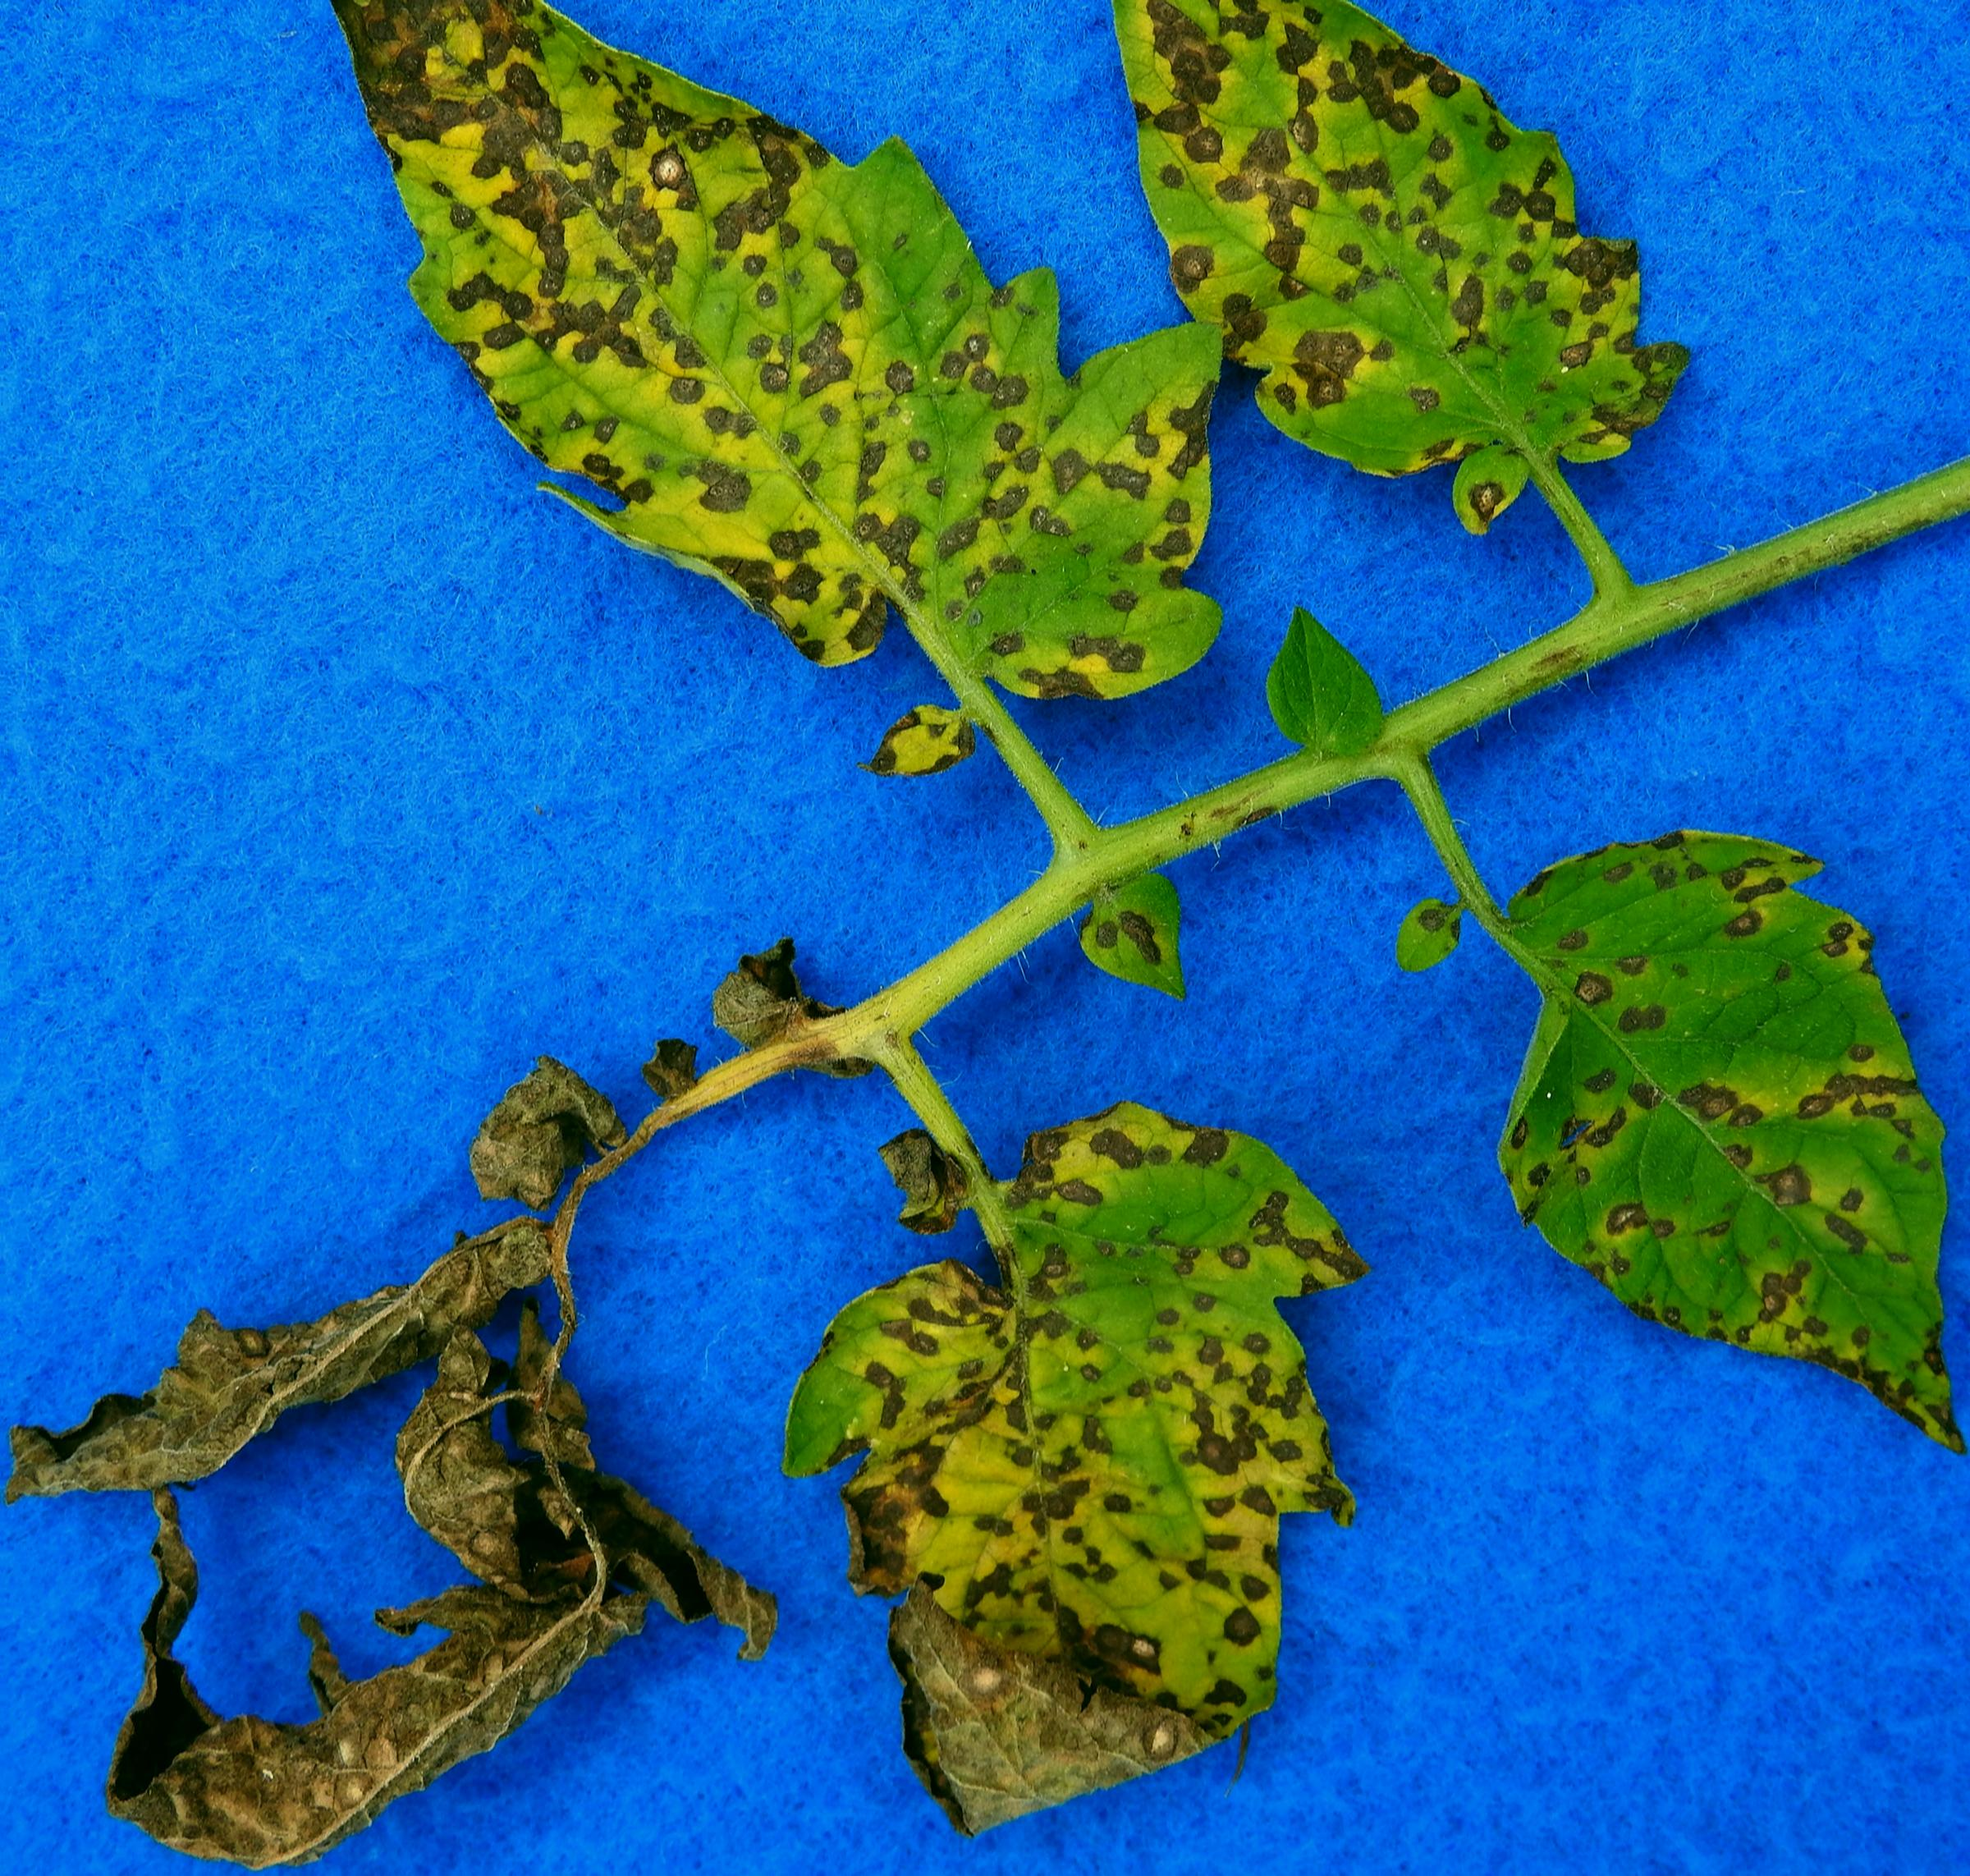Tomato Septoria leaf spot: (252, 9, 1222, 748), (732, 1107, 1363, 1876), (1460, 769, 1970, 1484), (1108, 9, 1682, 535)
